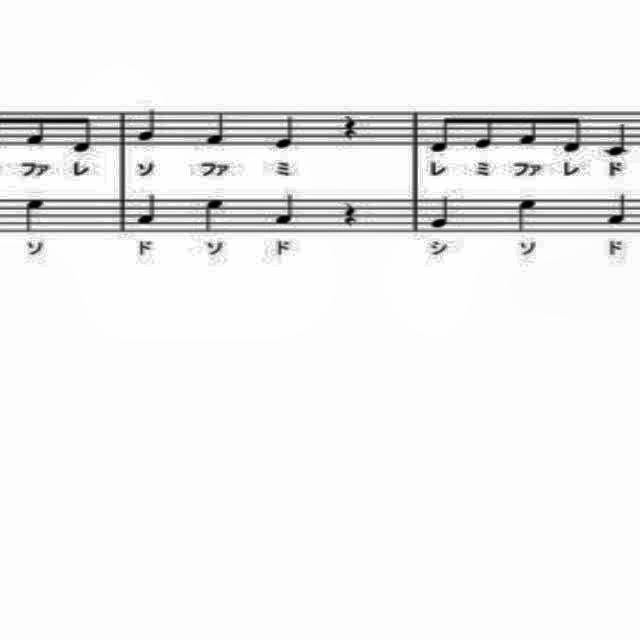Eighth-note: (428, 107, 460, 159), (67, 110, 97, 162), (560, 107, 588, 161), (470, 110, 502, 156), (20, 107, 50, 149), (514, 108, 542, 152)
Quarter-note: (598, 118, 636, 158), (511, 194, 543, 238), (271, 113, 305, 151), (604, 190, 636, 230), (202, 108, 232, 146), (134, 107, 162, 145), (272, 191, 300, 229), (428, 193, 456, 231), (200, 196, 226, 234), (18, 196, 44, 232), (135, 191, 157, 229)
Quarter-rest: (340, 108, 364, 142), (340, 197, 360, 227)
